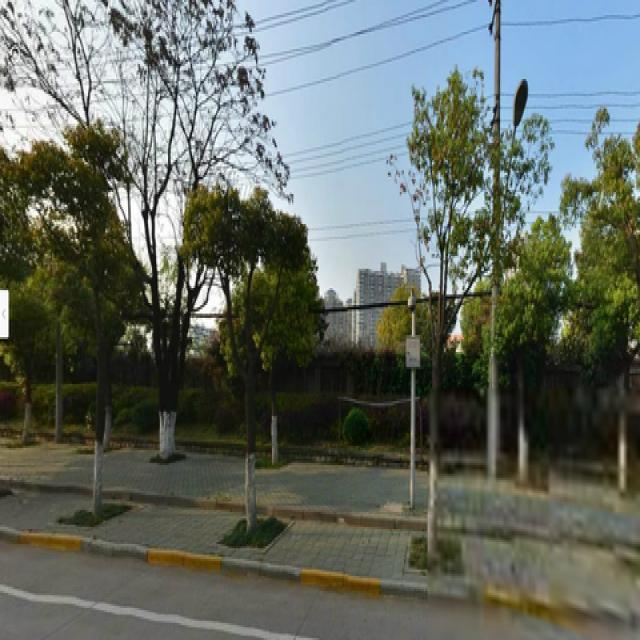cinn: (196, 190, 285, 546)
